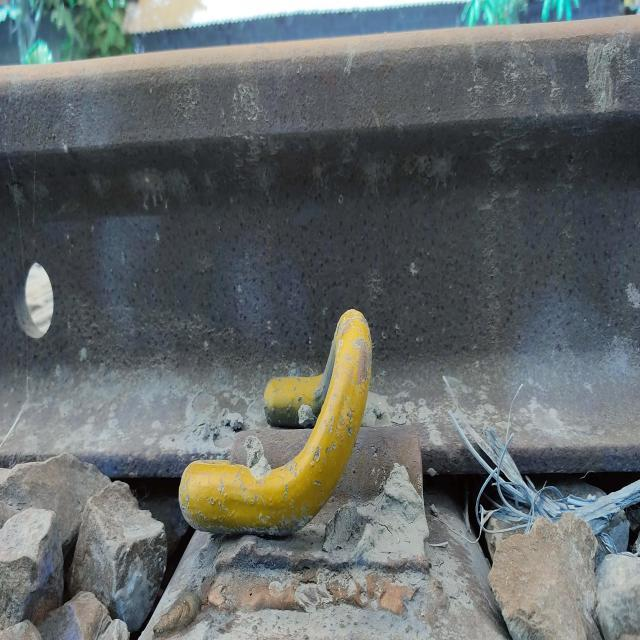Good Fasteners: (178, 306, 439, 600)
